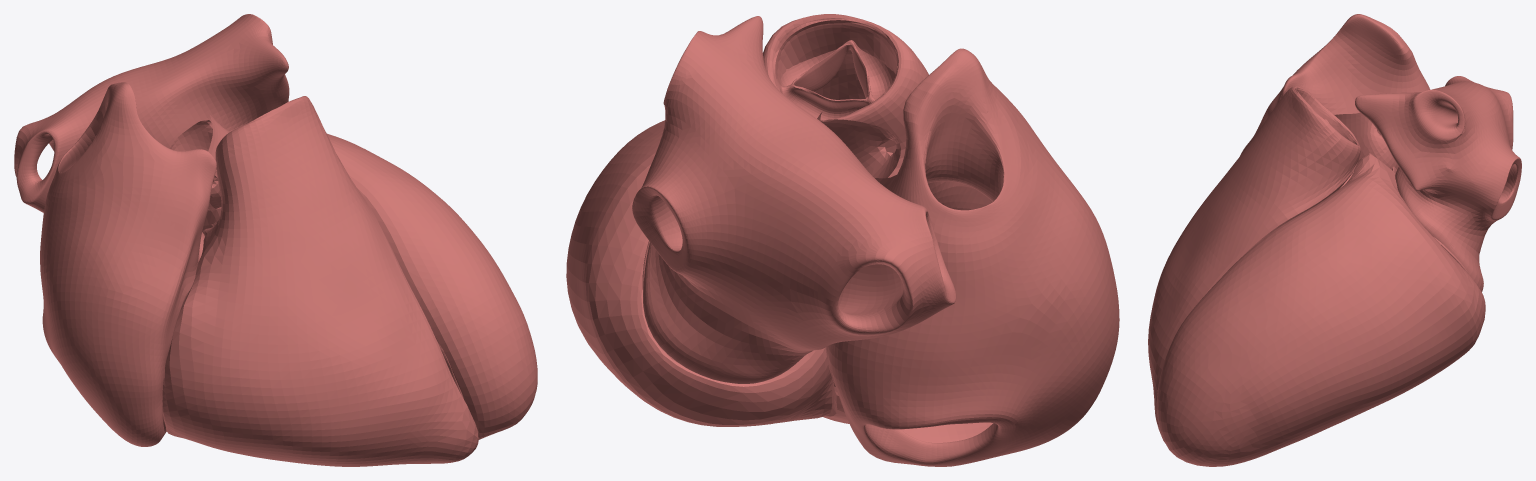
Rendered from VH_M_Heart_0.8.glb.
The picture shows the model from 3 angles, left to right: view 1: azimuth 30°, elevation 25°; view 2: azimuth 150°, elevation 25°; view 3: azimuth 270°, elevation 25°; orthographic projection. The views are drawn at different scales.
Visible parts, largest first — view 1: VH_M_heart_right_ventricle, VH_M_right_cardiac_atrium, VH_M_heart_left_ventricle, VH_M_left_cardiac_atrium, VH_M_aortic_valve; view 2: VH_M_left_cardiac_atrium, VH_M_right_cardiac_atrium, VH_M_heart_left_ventricle, VH_M_heart_right_ventricle, VH_M_pulmonary_valve, VH_M_aortic_valve; view 3: VH_M_heart_left_ventricle, VH_M_heart_right_ventricle, VH_M_left_cardiac_atrium, VH_M_right_cardiac_atrium, VH_M_aortic_valve.
Part boxes in pixels (box(x1,y1,x2,y2)): VH_M_heart_right_ventricle: box(162, 96, 478, 466); VH_M_right_cardiac_atrium: box(40, 82, 216, 446); VH_M_heart_left_ventricle: box(202, 133, 537, 439); VH_M_left_cardiac_atrium: box(14, 14, 289, 212); VH_M_aortic_valve: box(170, 113, 229, 210); VH_M_left_cardiac_atrium: box(632, 16, 956, 383); VH_M_right_cardiac_atrium: box(826, 48, 1119, 466); VH_M_heart_left_ventricle: box(566, 120, 833, 426); VH_M_heart_right_ventricle: box(763, 14, 928, 423); VH_M_pulmonary_valve: box(773, 19, 897, 119); VH_M_aortic_valve: box(817, 112, 900, 188); VH_M_heart_left_ventricle: box(1156, 153, 1485, 466); VH_M_heart_right_ventricle: box(1148, 86, 1360, 442); VH_M_left_cardiac_atrium: box(1355, 76, 1521, 291); VH_M_right_cardiac_atrium: box(1240, 14, 1429, 155); VH_M_aortic_valve: box(1334, 112, 1398, 169).
Size of the model in its own units: 0.1244 by 0.1055 by 0.1052.
